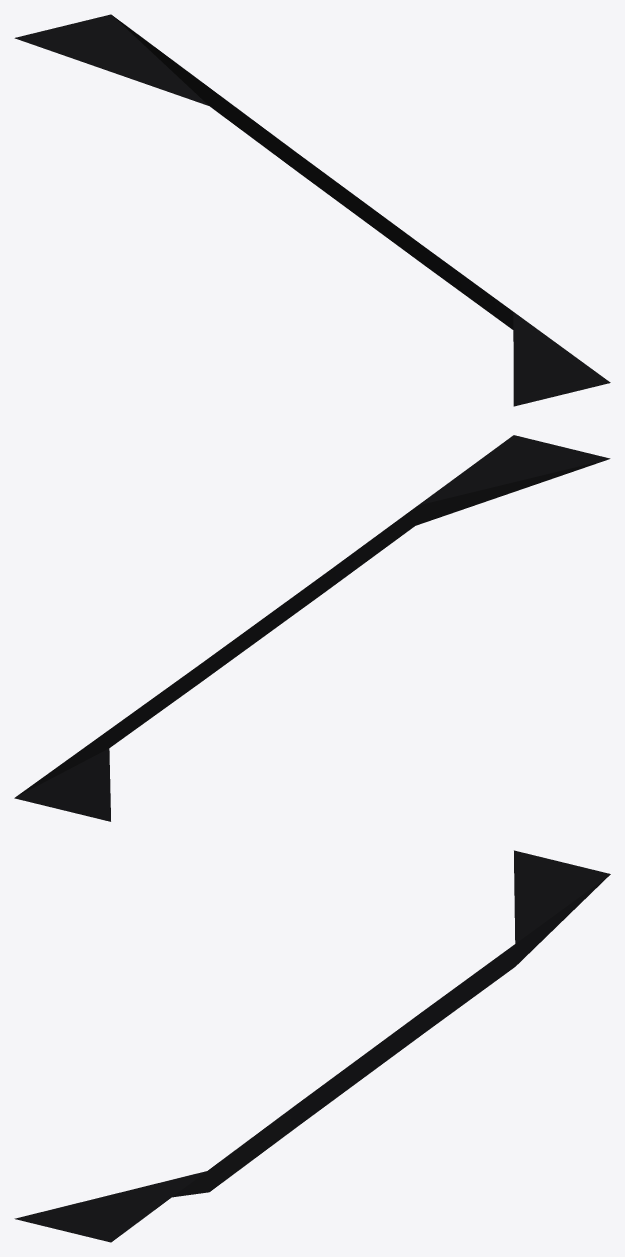
The model's file is skirt_R_skirt.glb.
The picture shows the model from 3 angles, top to bottom: view 1: azimuth 30°, elevation 25°; view 2: azimuth 150°, elevation 25°; view 3: azimuth 330°, elevation 25°; orthographic projection.
Parts seen in each view (by area): view 1: skirt_R_skirt; view 2: skirt_R_skirt; view 3: skirt_R_skirt.
Part boxes in pixels (box(x1,y1,x2,y2)): skirt_R_skirt: box(14, 14, 610, 406); skirt_R_skirt: box(14, 435, 610, 821); skirt_R_skirt: box(14, 850, 610, 1242).
Size of the model in its own units: 0.2233 by 0.0496 by 1.96.
1 material, 1 textured.
